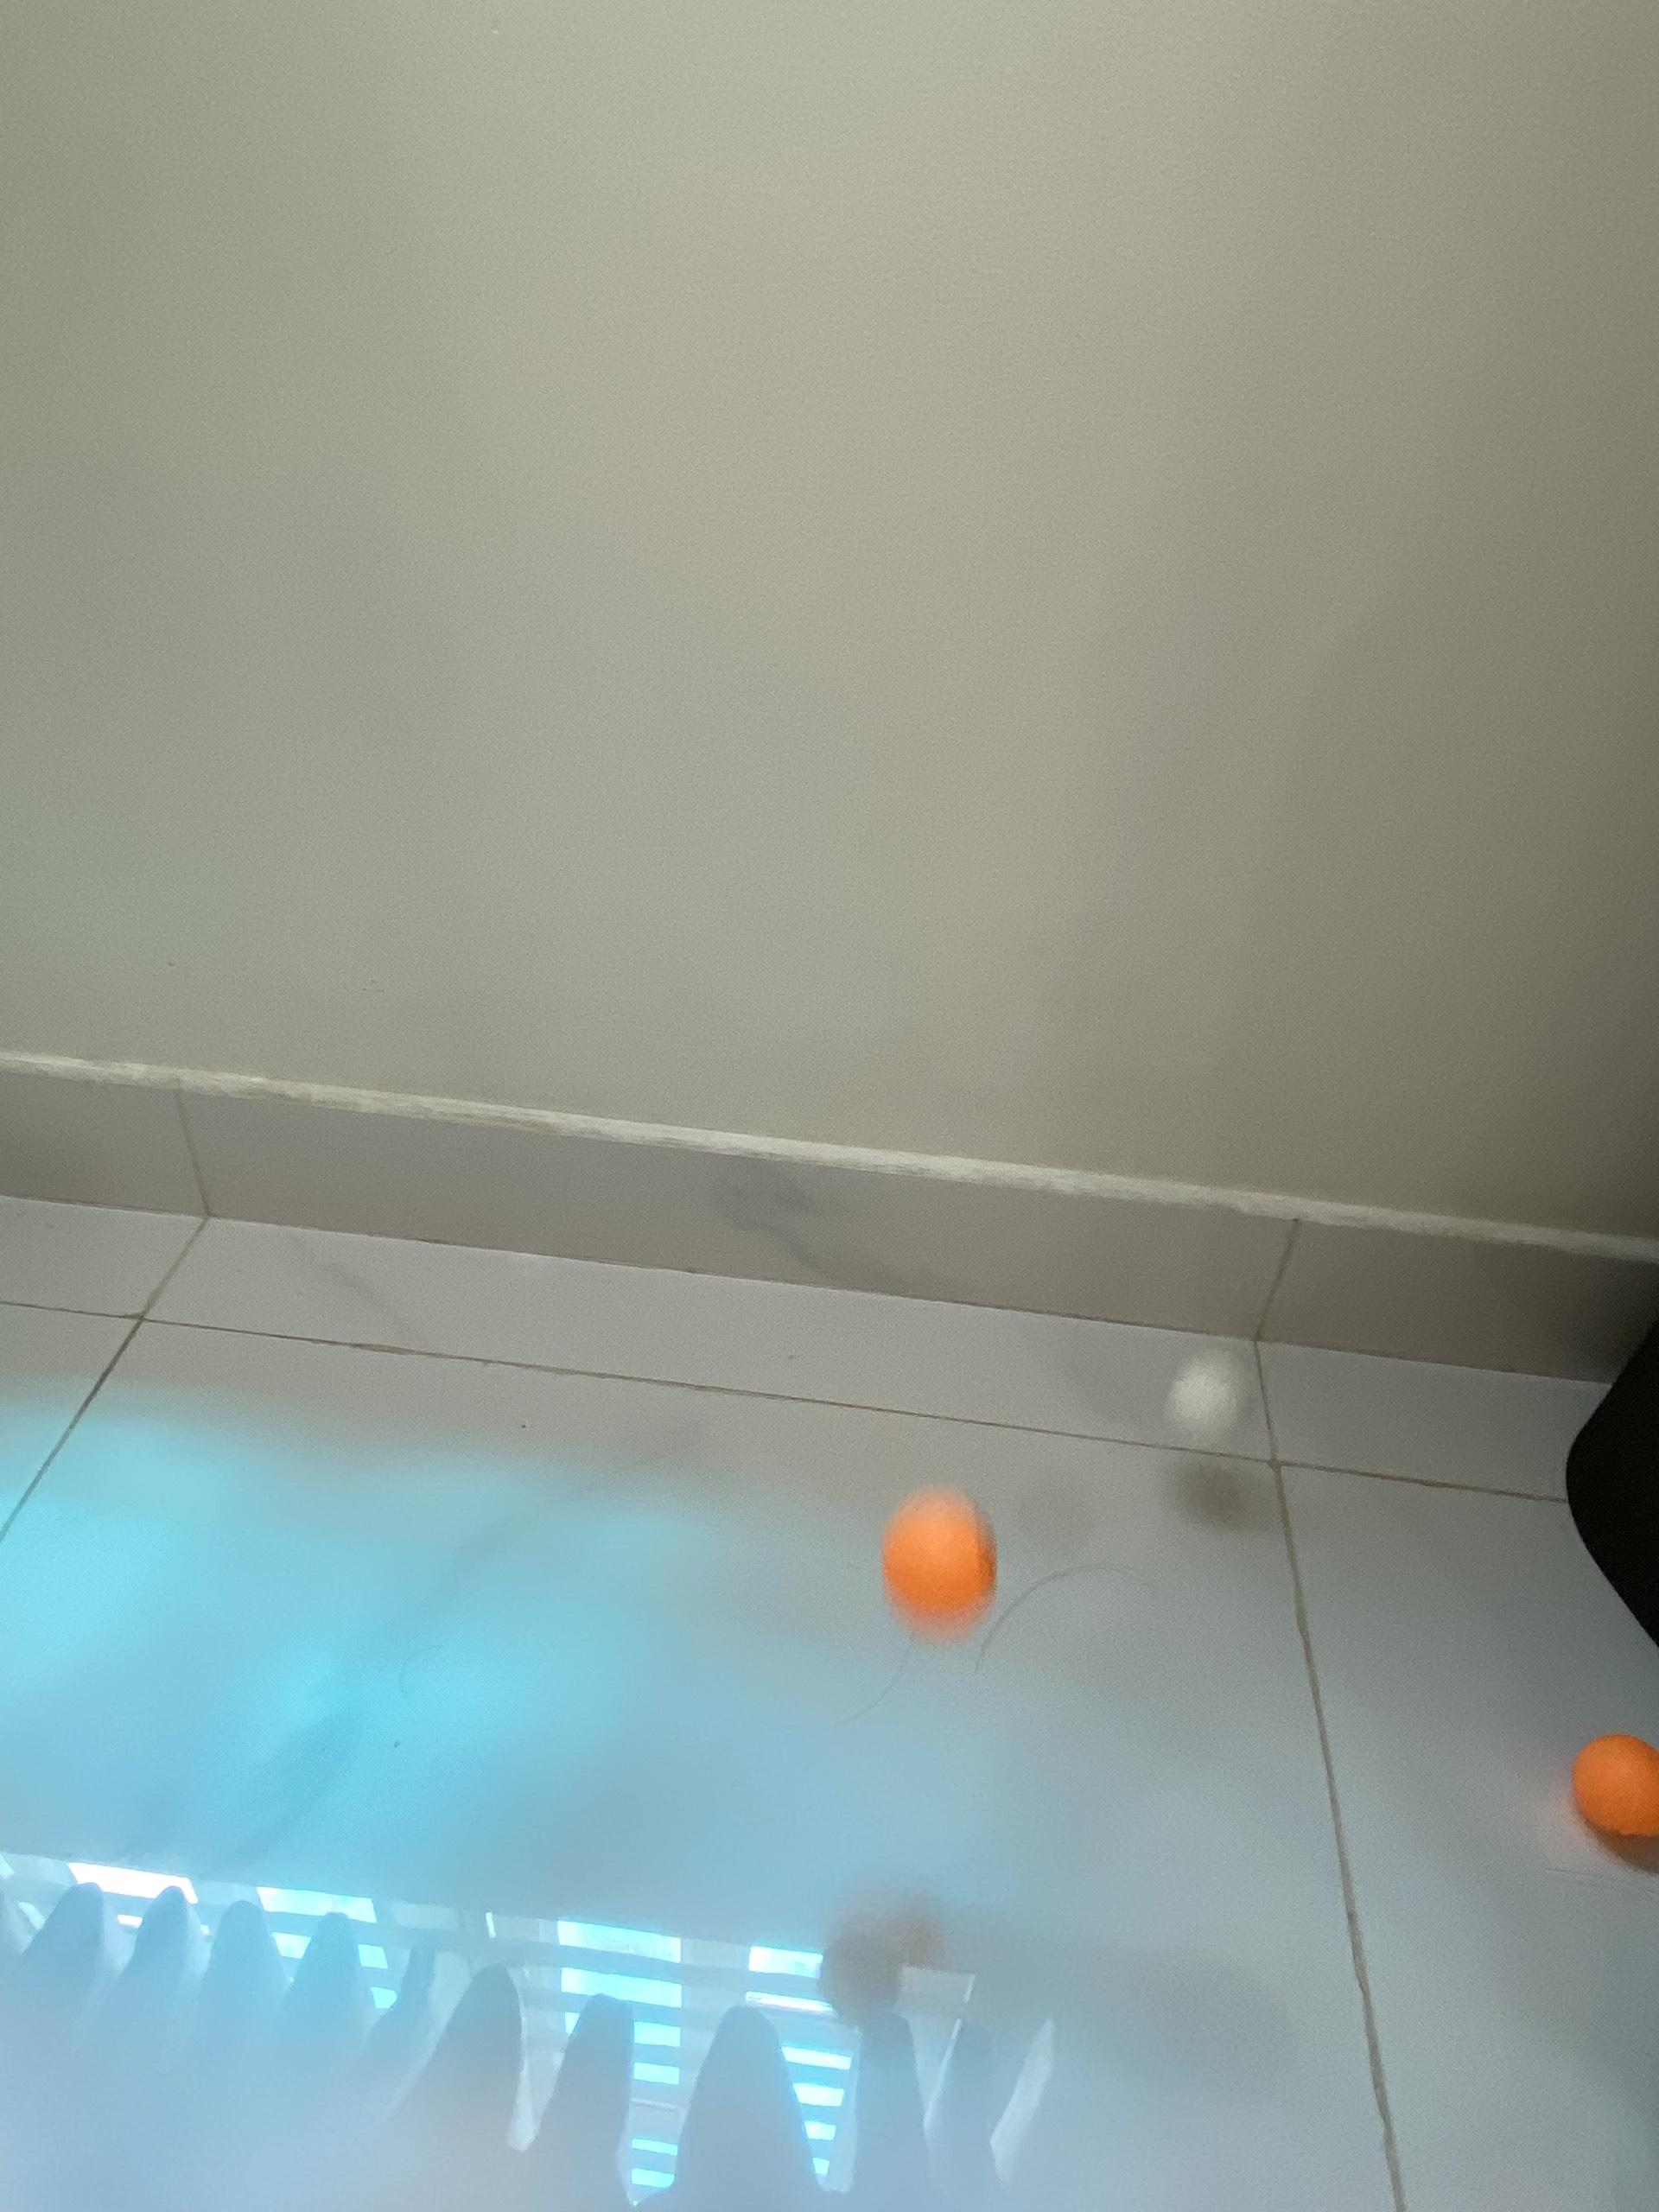oball: (884, 1498, 1000, 1622), (1570, 1733, 1659, 1841)
